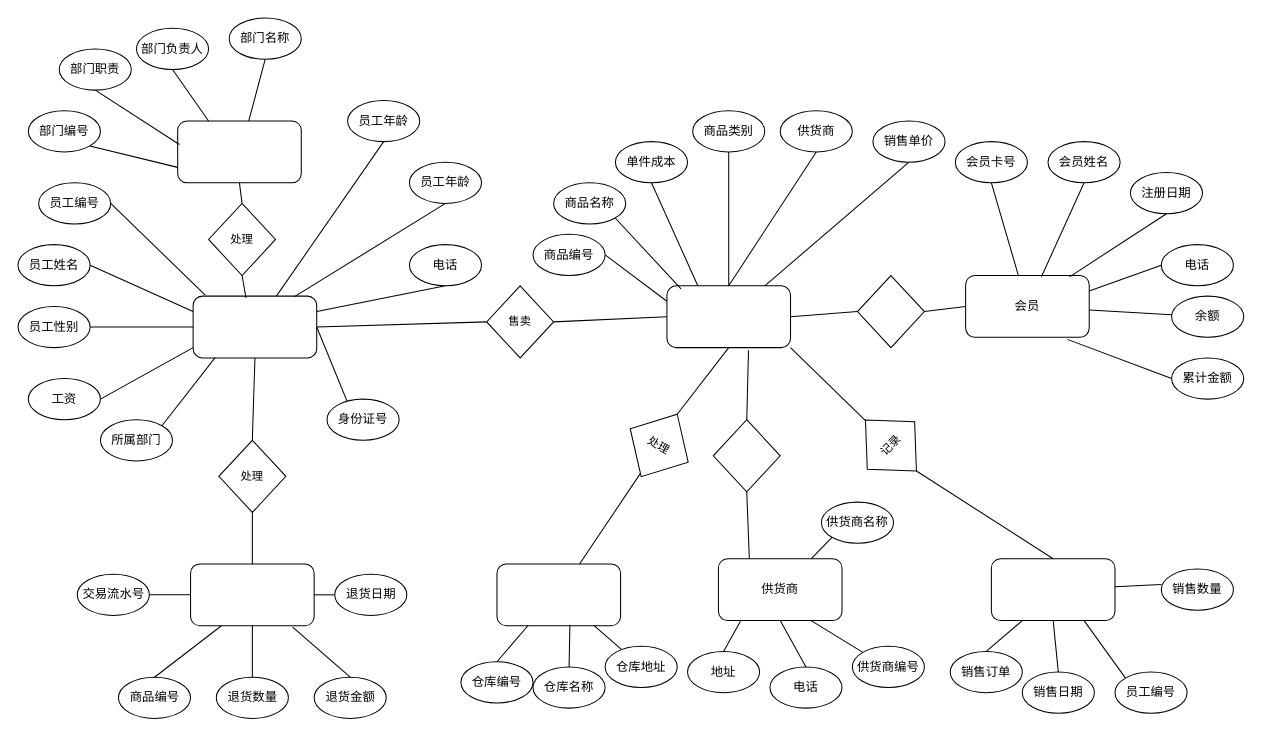
Some shapes in this 1262 by 736 pixel diagram are drawn without their labels. The box of each missing label's shape, as (x1, y1, x2, y2) in pixels:
仓库: (496, 563, 621, 626)
供货: (712, 419, 780, 492)
员工: (192, 295, 317, 358)
商品: (666, 285, 791, 348)
购买: (856, 274, 924, 348)
退货信息: (190, 563, 314, 626)
部门: (177, 120, 301, 183)
销售记录: (990, 558, 1115, 621)
